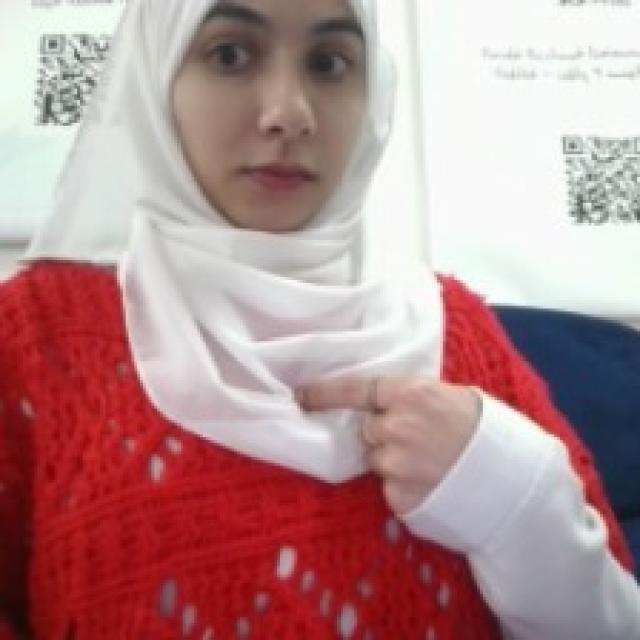me: (290, 368, 486, 526)
